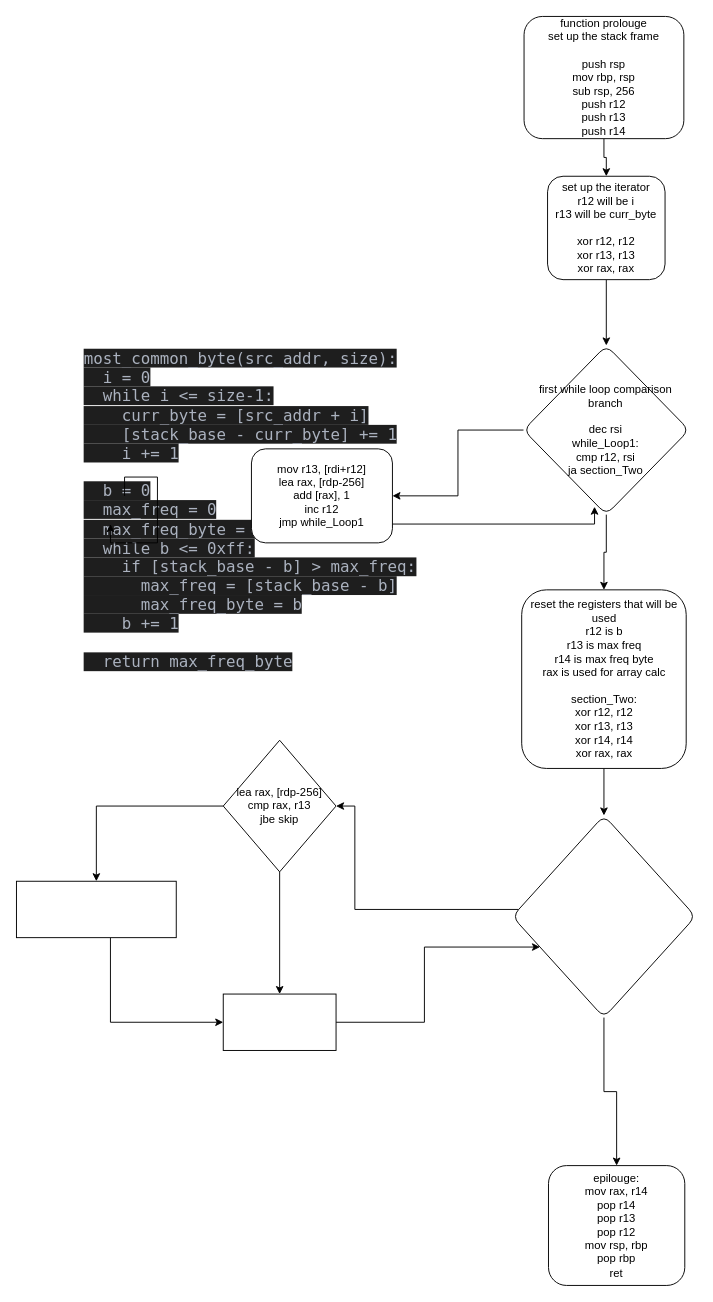
The diagram is 713 pixels wide and 1302 high, and some of its shapes have lost their labels. The shapes that lost their labels are listed below. From the top down, each one's centre as x and y in pixels, then its label:
At [96,909]: "mov r13, rax mov r14, r12".
At [603,916]: "while_Loop2: cmp r12, 256 ja epilouge".
At [279,1021]: "skip: inc r12 jmp while_Loop2".
